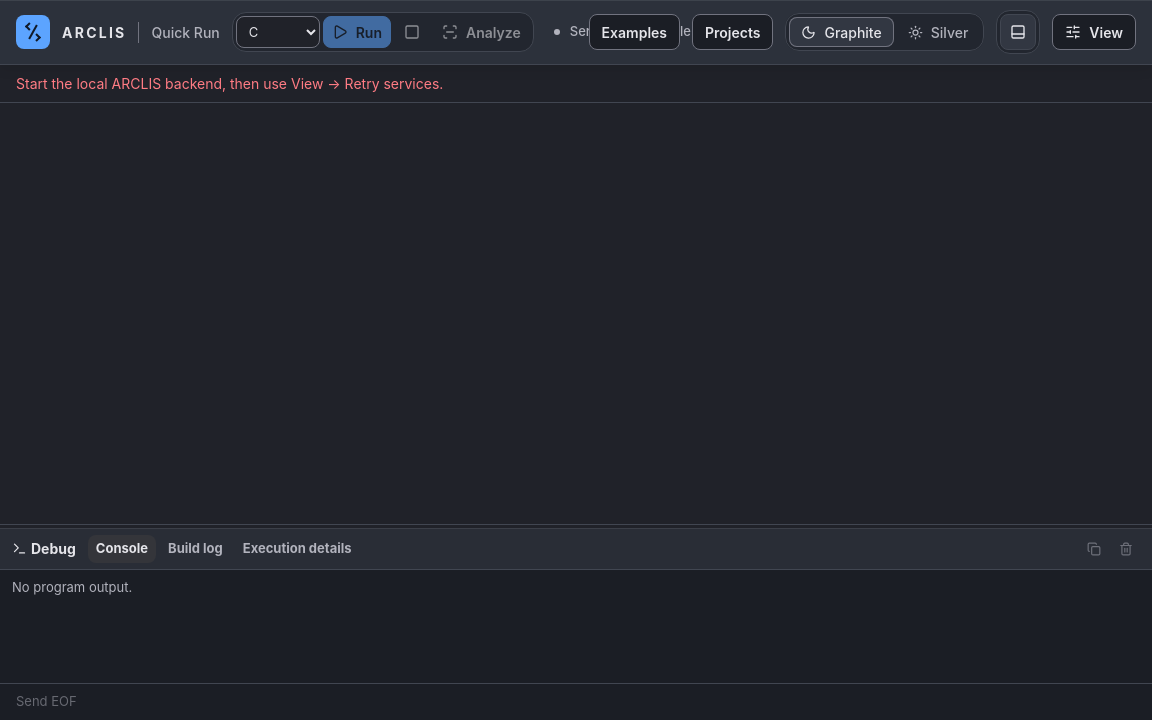
Scenario: the component preview › copies the displayed source with exact line breaks and announces success
Click the button "View" at [1094, 32], box [1052, 14, 1136, 50]
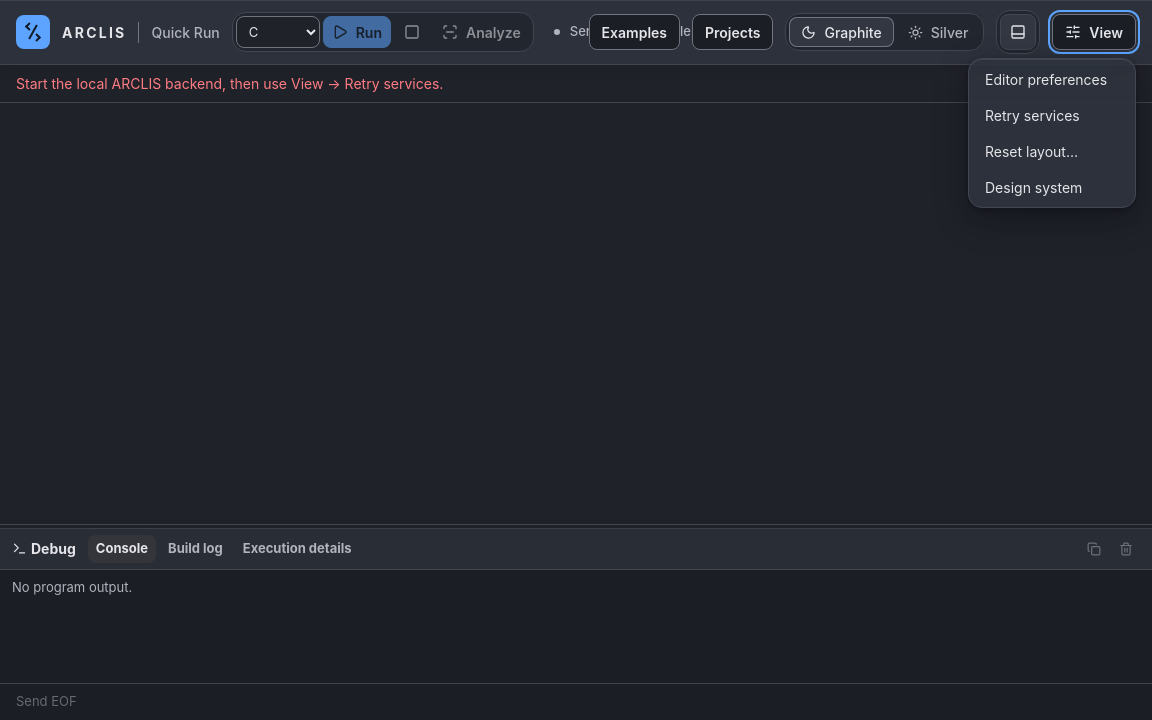
Click the button "Design system" at [1052, 187], box [973, 171, 1131, 203]
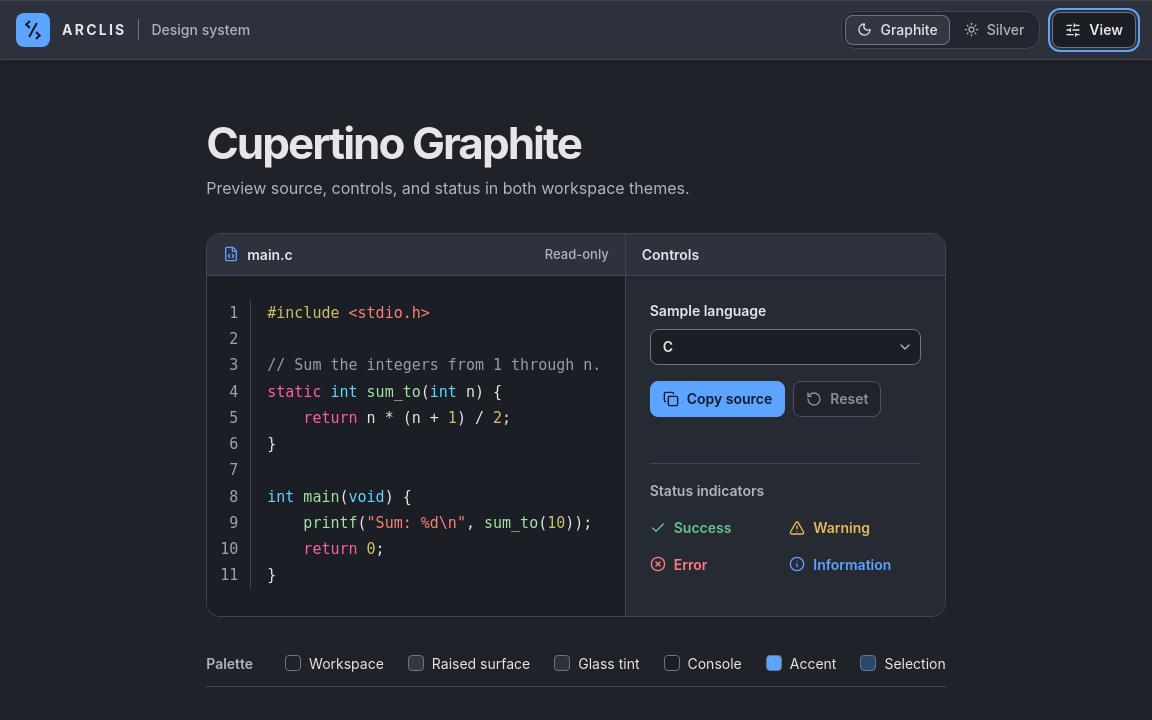
Select "Python" in the dropdown labelled "Sample language" at [785, 347], box [650, 329, 921, 365]
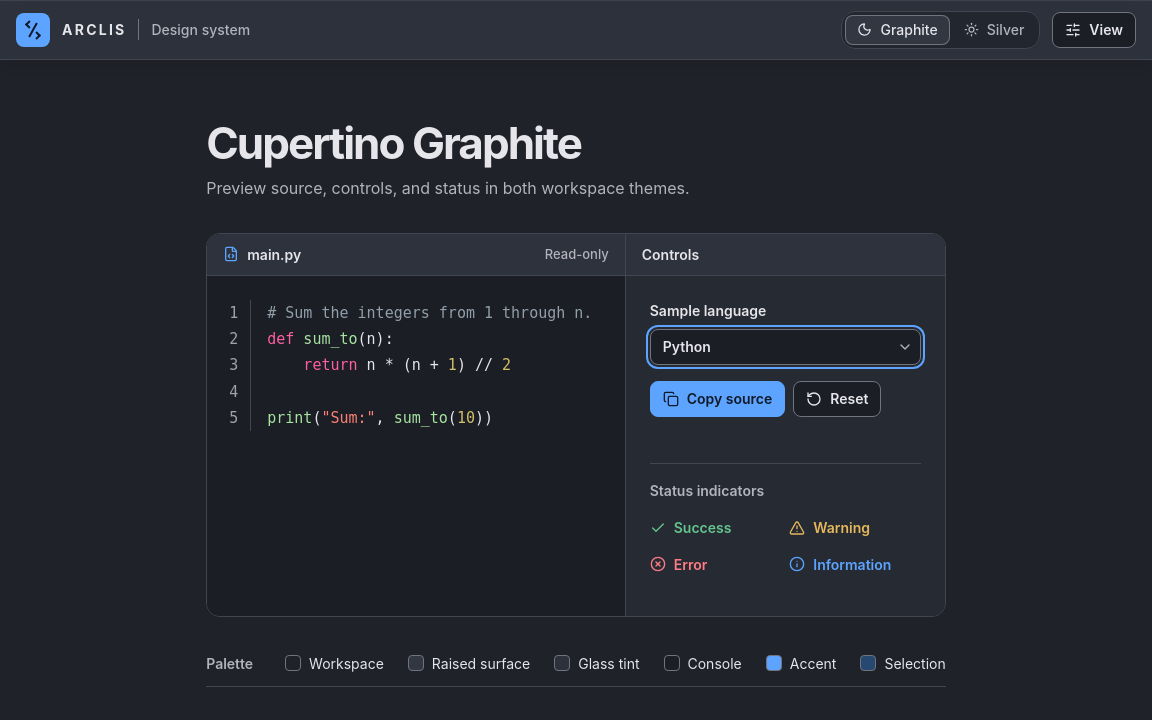
Click the button "Copy source" at [718, 399], box [650, 381, 785, 417]
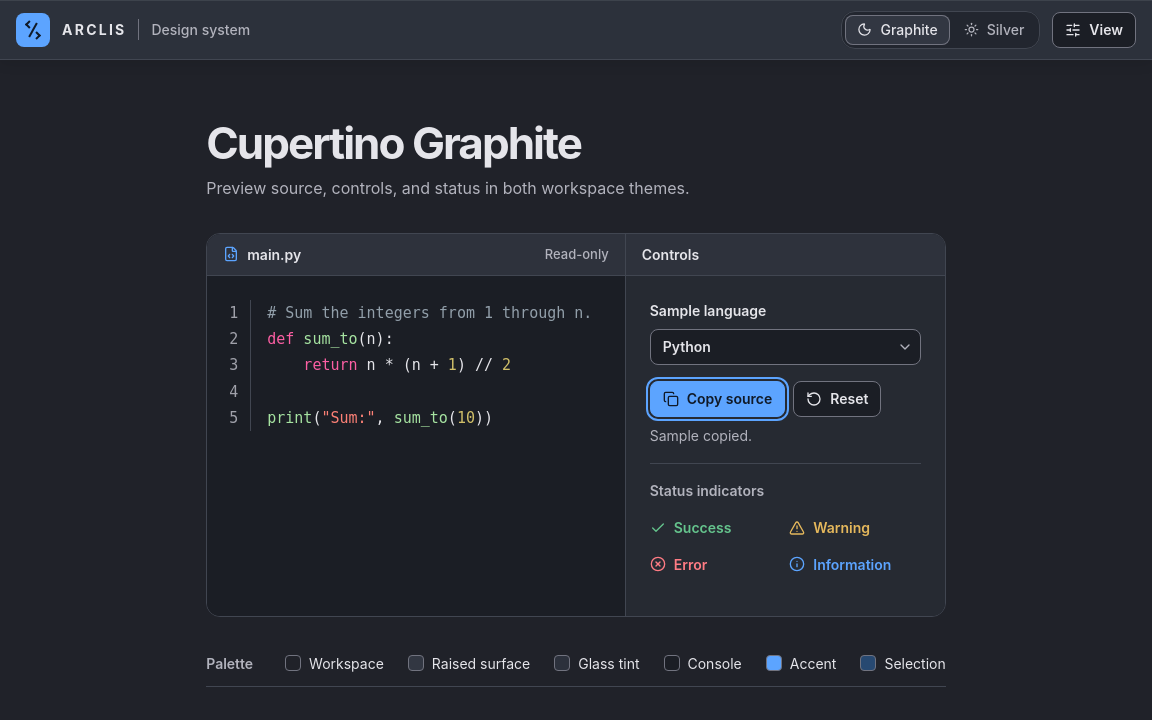
Check: the message reads "Sample copied.", box [650, 427, 752, 444]
